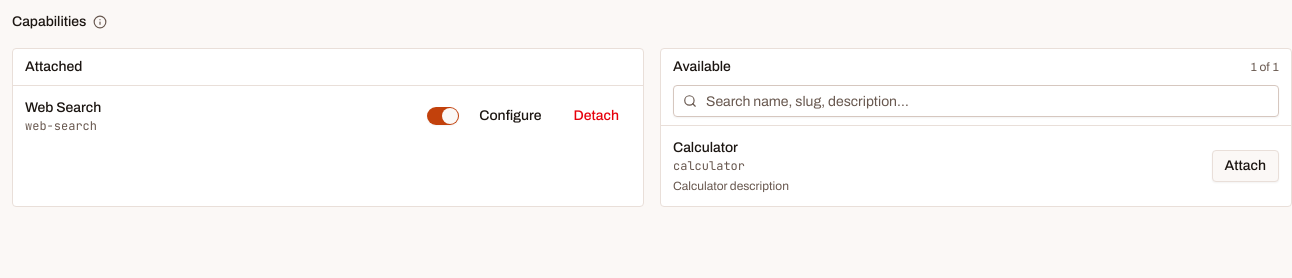
AgentCapabilitiesTab › error and edge-case paths › renders generic fallback message when Toggle PATCH rejects with a non-APIClientError
This screenshot has width=1292, height=278.
Expected: the text "Web Search" is shown, x1=25 y1=98 x2=101 y2=118
click the Switch
Click the switch: [443, 116] box x1=427 y1=107 x2=459 y2=125
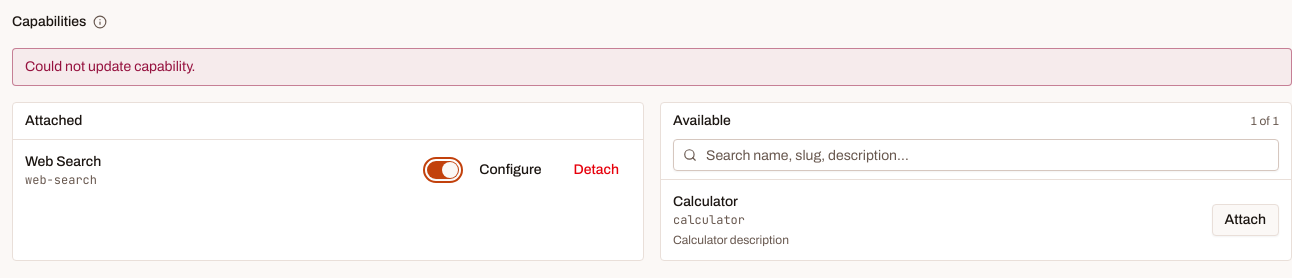
Result: the text "Could not update capability." is shown at x1=12 y1=48 x2=1291 y2=86
